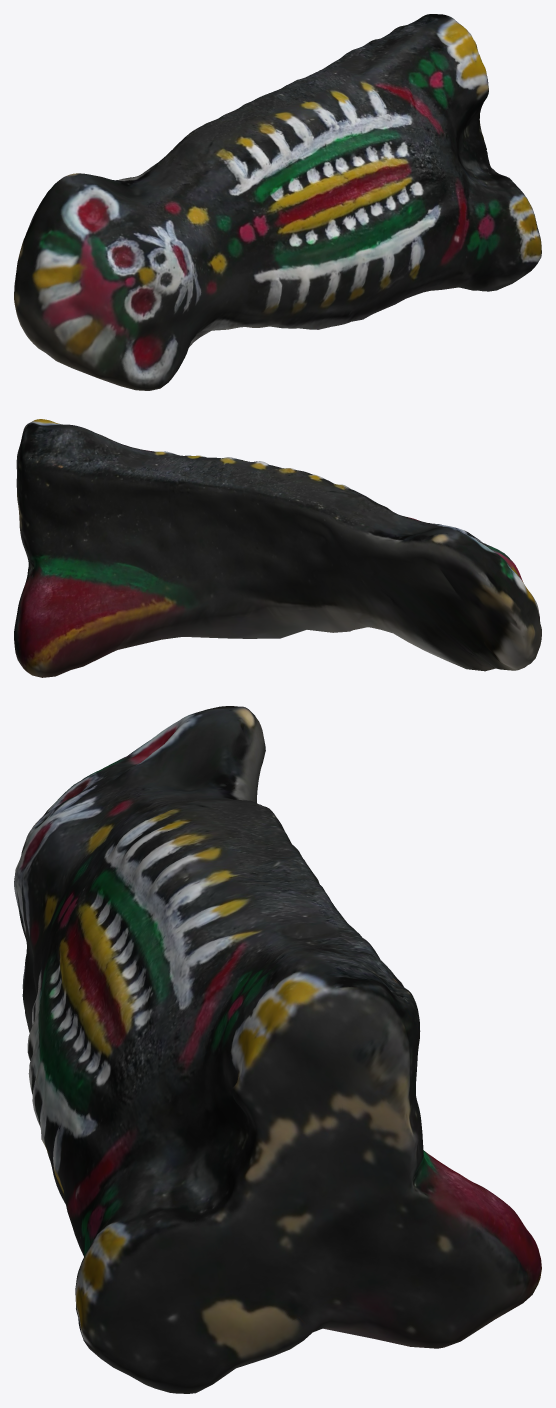
3 renders of one model, top to bottom at view 1: azimuth 30°, elevation 25°; view 2: azimuth 150°, elevation 25°; view 3: azimuth 270°, elevation 25°, orthographic. The views are drawn at different scales.
Size of the model in its own units: 0.6319 by 0.2856 by 0.3312.
1 material, 1 textured.
